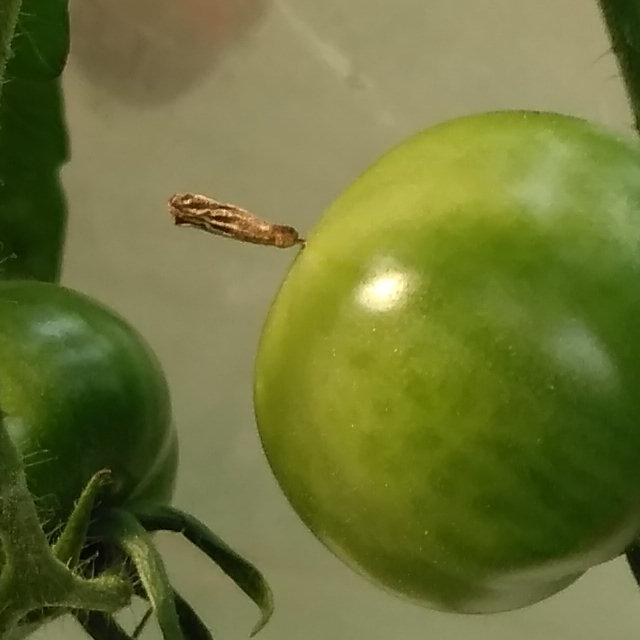tomato: (10, 60, 640, 640)
